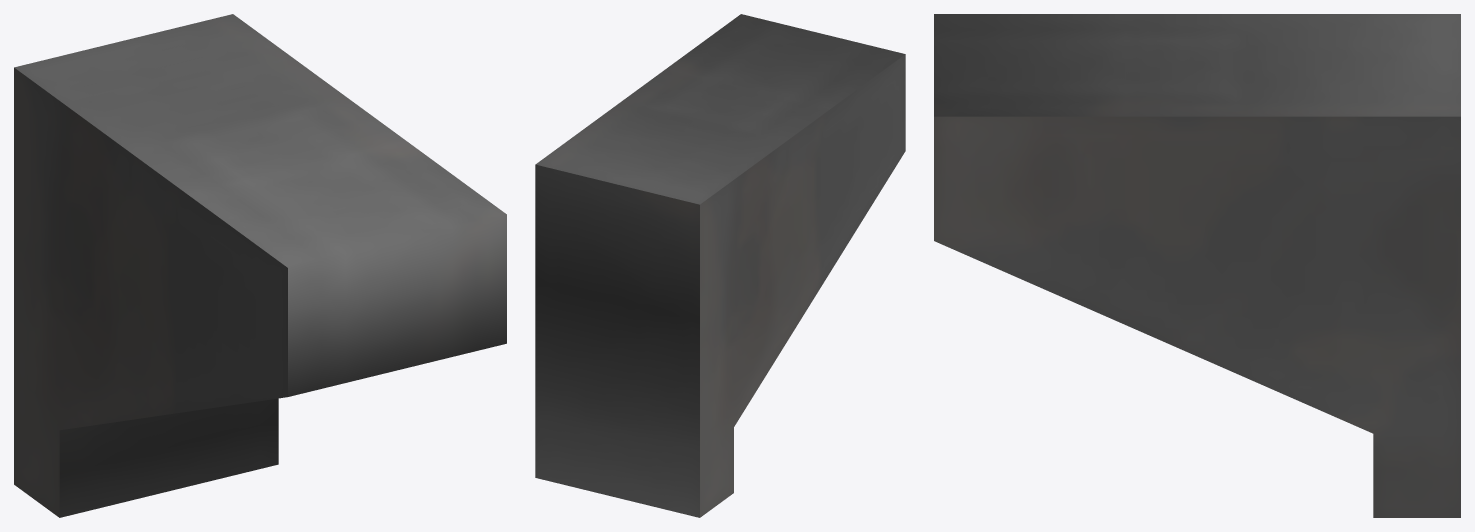
The model's file is Trim_04_Cap_01.fbx.
The picture shows the model from 3 angles, left to right: view 1: azimuth 30°, elevation 25°; view 2: azimuth 150°, elevation 25°; view 3: azimuth 270°, elevation 25°; orthographic projection. The views are drawn at different scales.
Visible parts, largest first — view 1: Trim_04_Cap_01; view 2: Trim_04_Cap_01; view 3: Trim_04_Cap_01.
Part boxes in pixels (x1,y1,x2,y2): Trim_04_Cap_01: (14,14,506,517); Trim_04_Cap_01: (535,14,905,517); Trim_04_Cap_01: (934,14,1460,517).
Size of the model in its own units: 0.157 by 0.2857 by 0.34.
